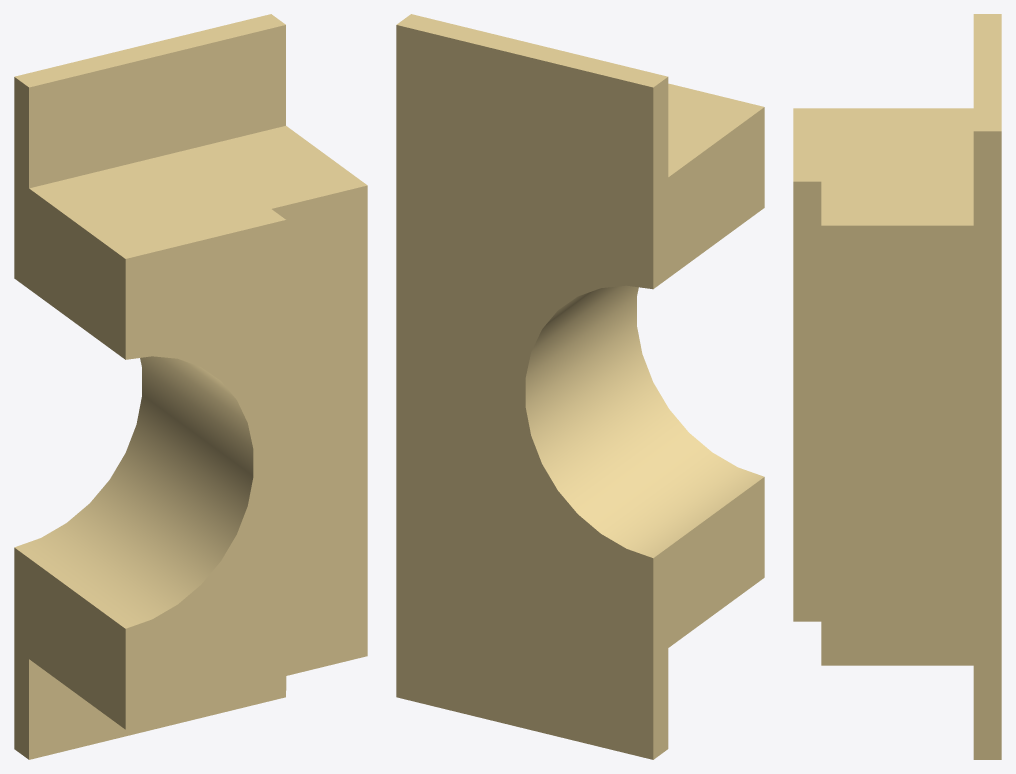
3 views of the same model, side by side, from view 1: azimuth 30°, elevation 25°; view 2: azimuth 150°, elevation 25°; view 3: azimuth 270°, elevation 25° (orthographic). The views are drawn at different scales.
Parts seen in each view (by area): view 1: mesh91227, mesh91222, mesh91228, mesh91234, mesh91232, mesh91226, mesh91231, mesh91224, mesh91233; view 2: mesh91229, mesh91228, mesh91226, mesh91231, mesh91232, mesh91233; view 3: mesh91230, mesh91232, mesh91221, mesh91233.
Part boxes in pixels (x1,y1,x2,y2): mesh91227: (125,220,286,729); mesh91222: (272,185,367,675); mesh91228: (14,356,253,628); mesh91234: (29,25,285,188); mesh91232: (29,126,367,258); mesh91226: (14,547,125,759); mesh91231: (14,77,125,359); mesh91224: (29,659,285,759); mesh91233: (14,14,285,87); mesh91229: (396,25,653,759); mesh91228: (525,285,764,558); mesh91226: (653,477,764,759); mesh91231: (653,77,764,288); mesh91232: (668,83,763,176); mesh91233: (396,14,667,87); mesh91230: (821,131,1001,759); mesh91232: (793,108,973,225); mesh91221: (793,181,821,621); mesh91233: (973,14,1001,131).
Bounding box in the file's own units: 0.0004 × 0.001 × 0.0003.
